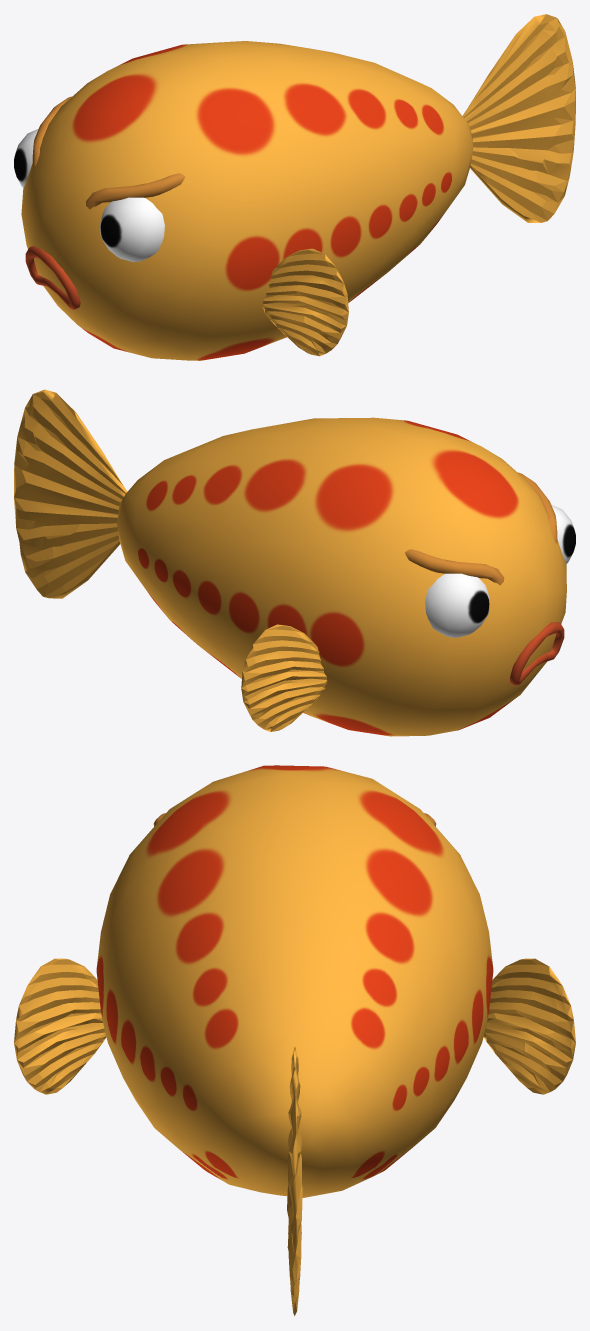
Rendered from exploding_fish.fbx.
3 views of the same model, one above another, from view 1: azimuth 30°, elevation 25°; view 2: azimuth 150°, elevation 25°; view 3: azimuth 270°, elevation 25° (orthographic). The views are drawn at different scales.
Visible parts, largest first — view 1: FishBody, BackFin, SideFin, EyeBall, Eyebrow, Mouth; view 2: FishBody, BackFin, SideFin, EyeBall, Eyebrow, Mouth; view 3: FishBody, SideFin, BackFin.
Part boxes in pixels (box(x1,y1,x2,y2)): FishBody: box(21, 41, 473, 360); BackFin: box(462, 14, 575, 222); SideFin: box(262, 248, 348, 356); EyeBall: box(14, 128, 164, 261); Eyebrow: box(32, 96, 185, 209); Mouth: box(25, 246, 80, 309); FishBody: box(117, 417, 566, 736); BackFin: box(14, 389, 127, 598); SideFin: box(241, 624, 327, 731); EyeBall: box(425, 504, 575, 637); Eyebrow: box(405, 472, 557, 585); Mouth: box(510, 622, 564, 685); FishBody: box(96, 765, 493, 1197); SideFin: box(14, 958, 575, 1094); BackFin: box(287, 1047, 302, 1315).
Size of the model in its own units: 329 by 166 by 236.
Materials: 6 (6 with a texture image).
